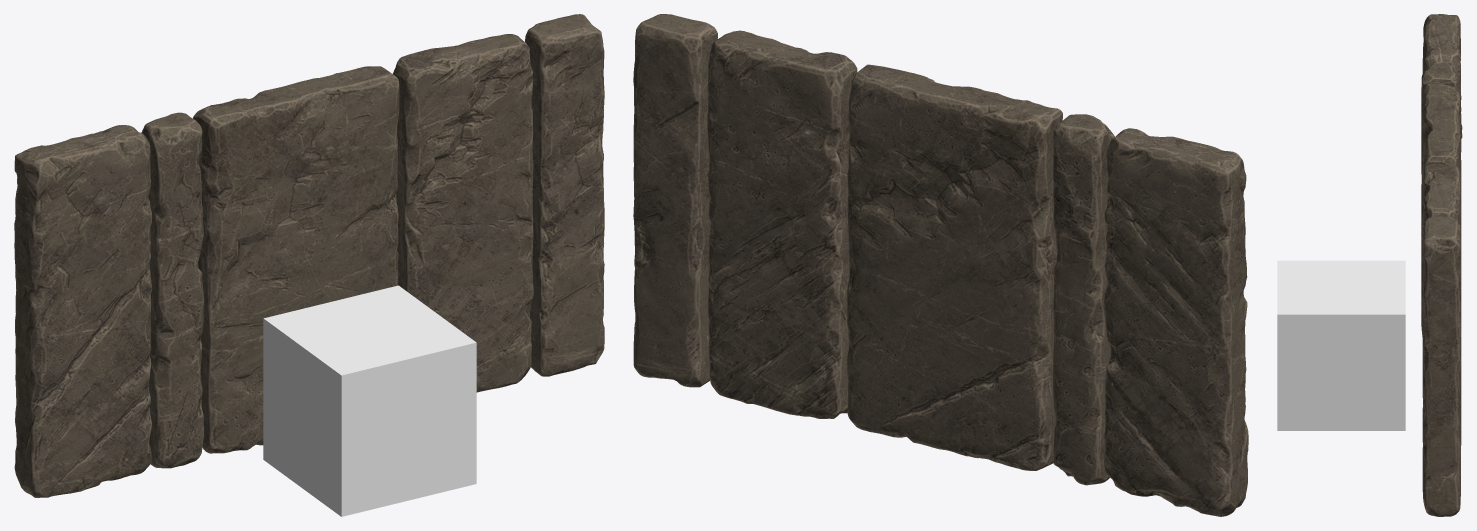
File: stone_wall.glb
3 renders of one model, left to right at view 1: azimuth 30°, elevation 25°; view 2: azimuth 150°, elevation 25°; view 3: azimuth 270°, elevation 25°, orthographic. The views are drawn at different scales.
Parts seen in each view (by area): view 1: rock, placeholder; view 2: rock; view 3: placeholder, rock.
Boxes of the visible parts, x1=… form: rock: x1=14, y1=14, x2=604, y2=497; placeholder: x1=263, y1=285, x2=476, y2=516; rock: x1=633, y1=14, x2=1248, y2=516; placeholder: x1=1277, y1=260, x2=1405, y2=430; rock: x1=1421, y1=14, x2=1462, y2=516.
Size of the model in its own units: 3.47 by 1.97 by 1.18.
Materials: 2 (1 with a texture image).
